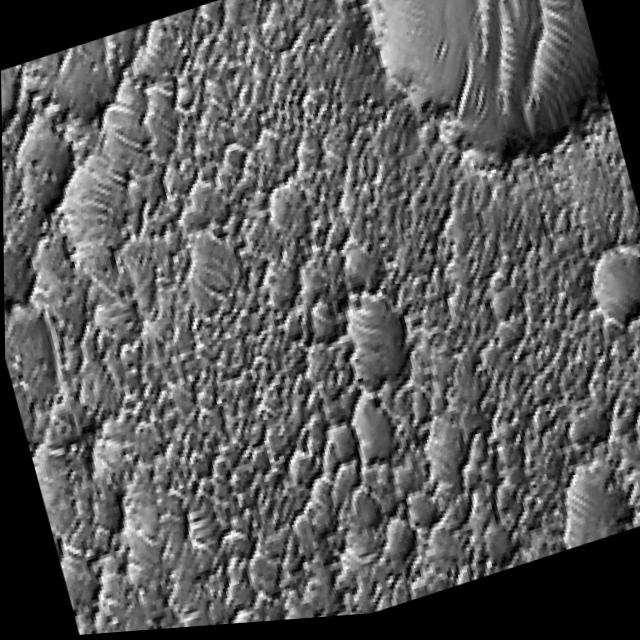Crater: (308, 0, 623, 247), (583, 299, 640, 537)
